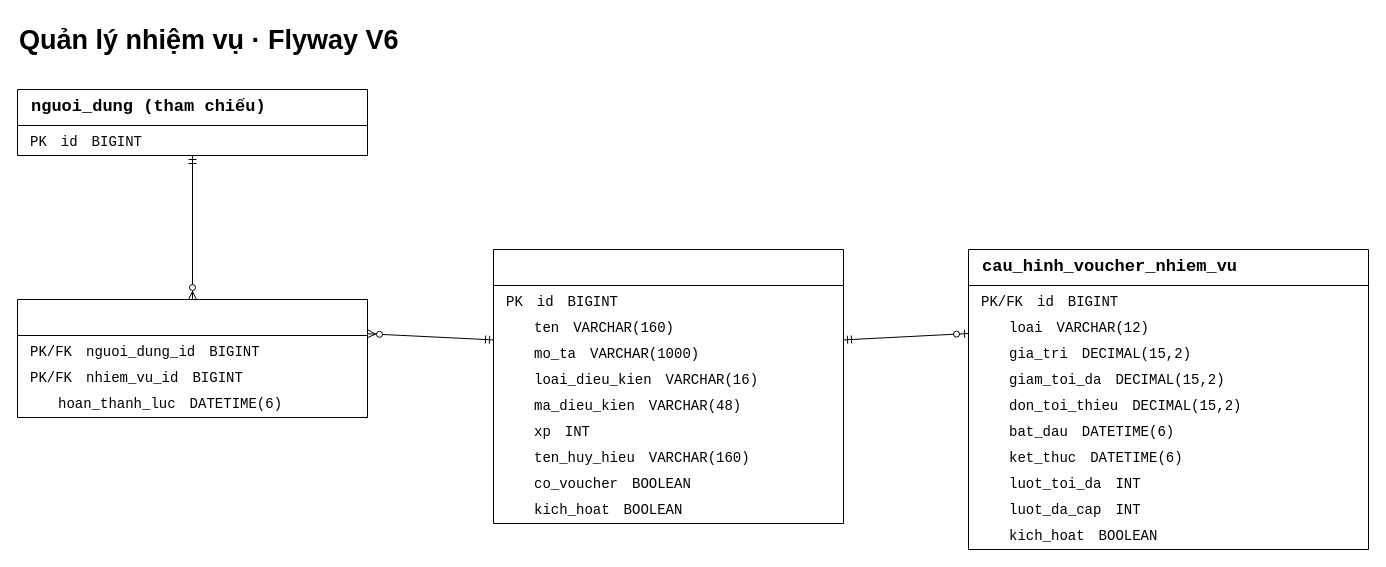
This 1386x567 diagram has some shape labels left out. The box of each missing label's shape, as (x1, y1, x2, y2) in pixels:
nhiem_vu: (492, 248, 844, 524)
nhiem_vu_hoan_thanh: (16, 298, 368, 418)
